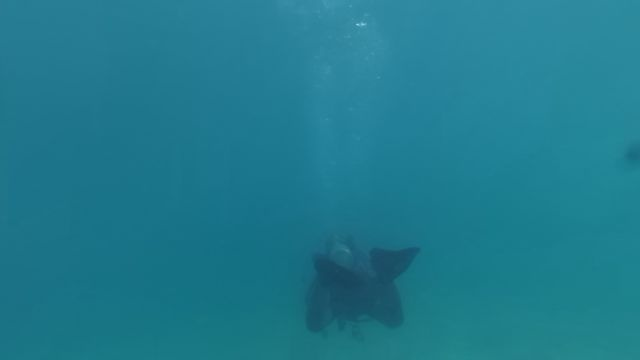Diver: (292, 228, 428, 340)
